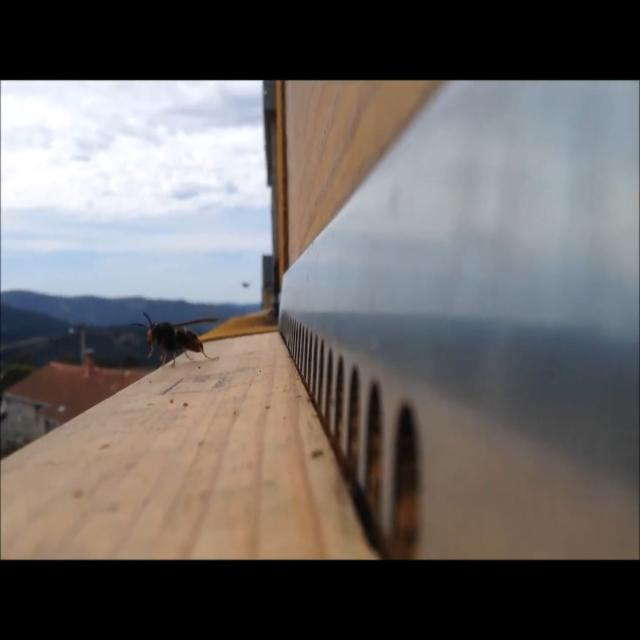Hornets: (134, 311, 222, 366)
